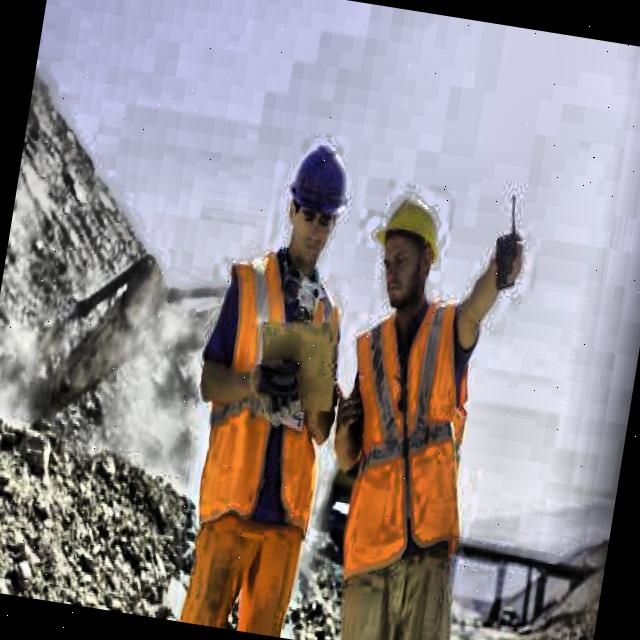helmet: (358, 176, 456, 323), (274, 128, 364, 280)
